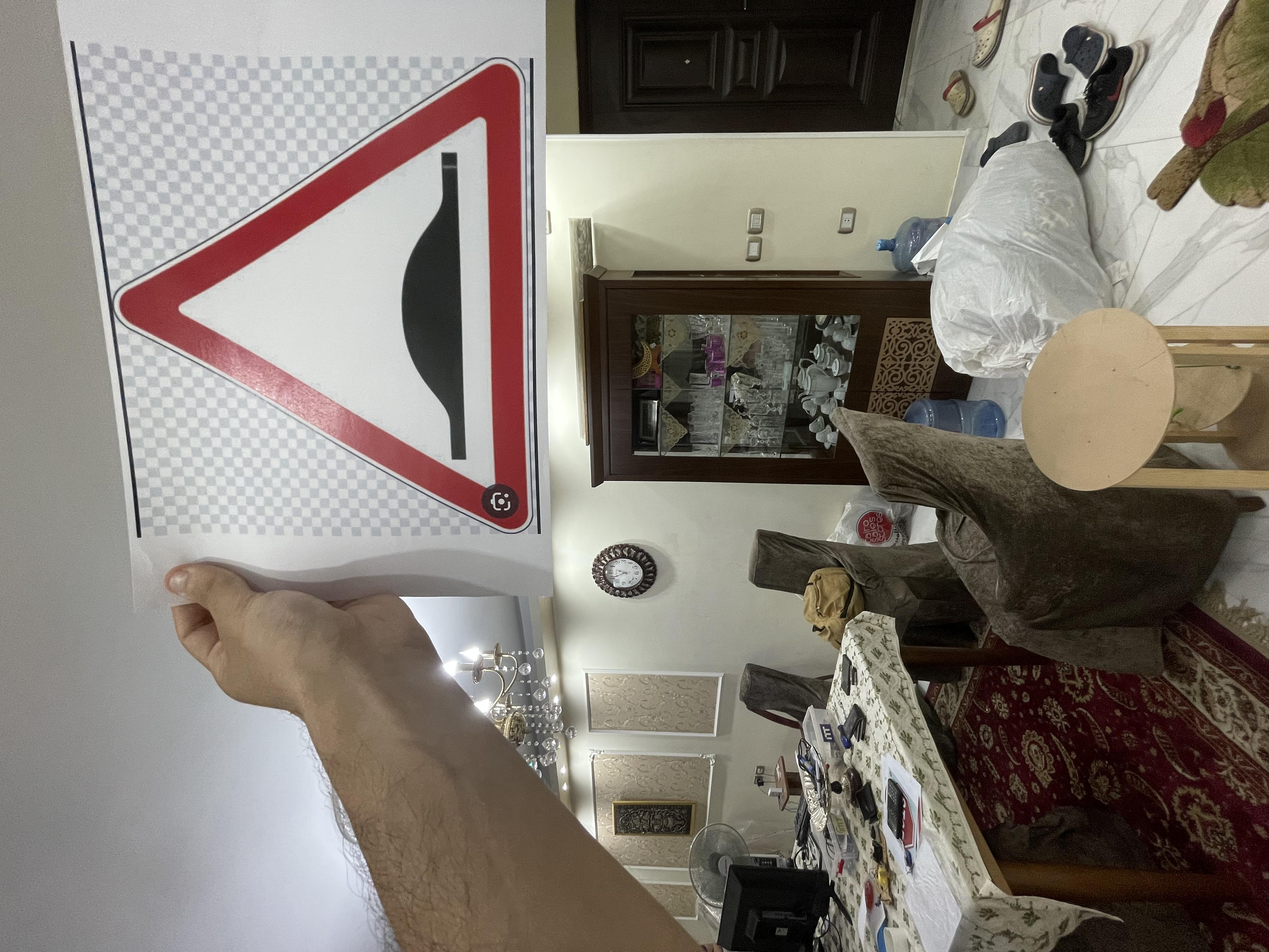Hump: (543, 76, 1222, 405)
